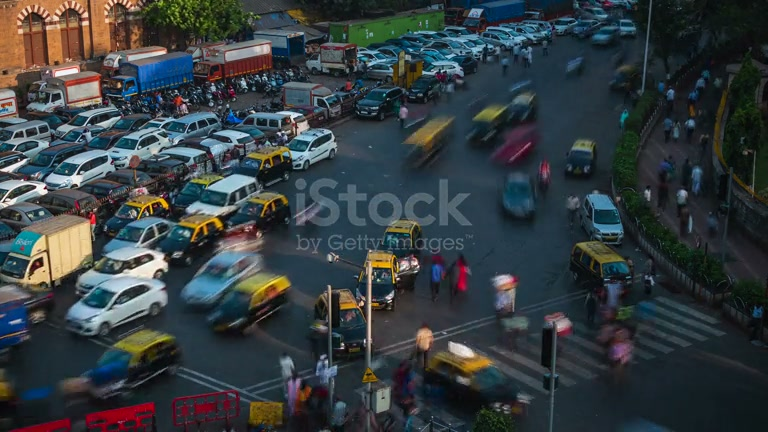bus: (101, 47, 194, 108), (379, 219, 424, 281)
car: (84, 327, 184, 403), (62, 273, 169, 340), (423, 344, 521, 408), (206, 268, 292, 336), (178, 249, 265, 312), (307, 287, 369, 361), (178, 172, 264, 223), (569, 239, 633, 299), (225, 190, 292, 233), (581, 190, 625, 245), (286, 127, 338, 171), (0, 285, 33, 351), (489, 126, 538, 168), (500, 172, 537, 222), (353, 86, 407, 120), (564, 138, 598, 177)
pedestrian: (451, 253, 471, 297), (429, 253, 445, 303)
truck: (0, 212, 94, 292)
